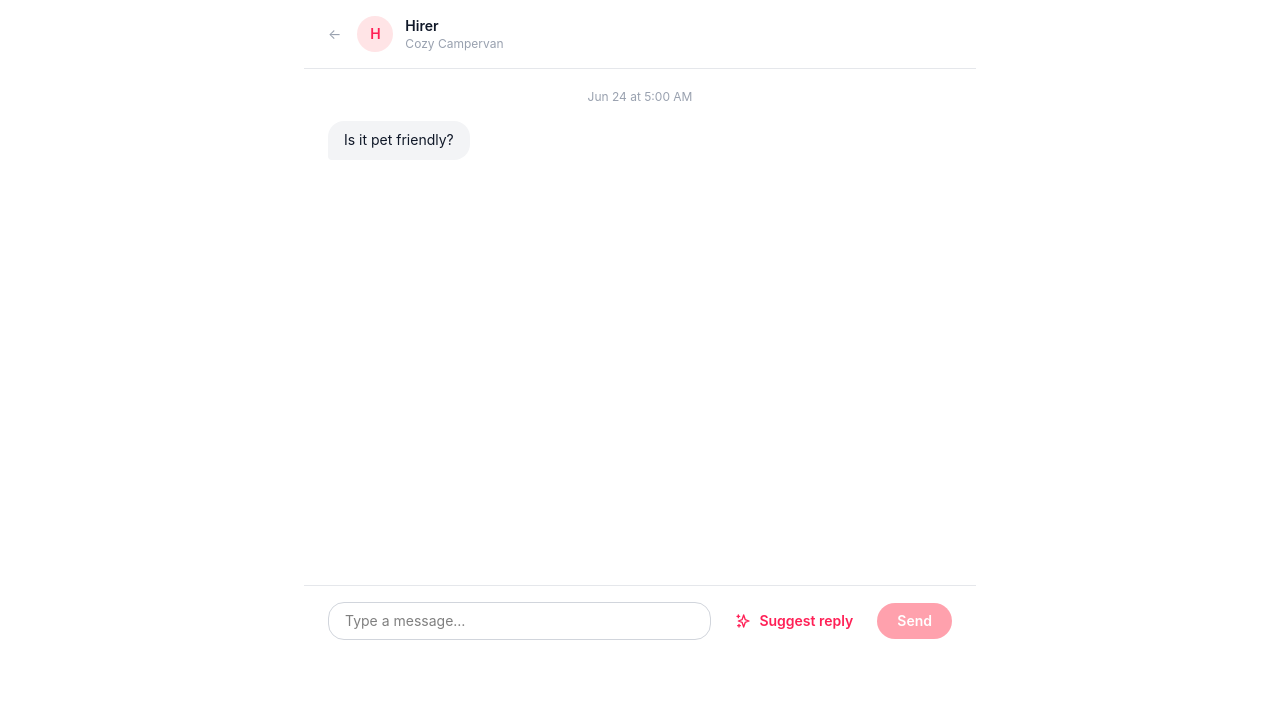
Test: ChatPage — Suggest reply (owner) › overwrites the draft with the suggestion when the owner confirms
In the text box with placeholder "Type a message…": (520, 621) [328,602,711,640], type "my own words"
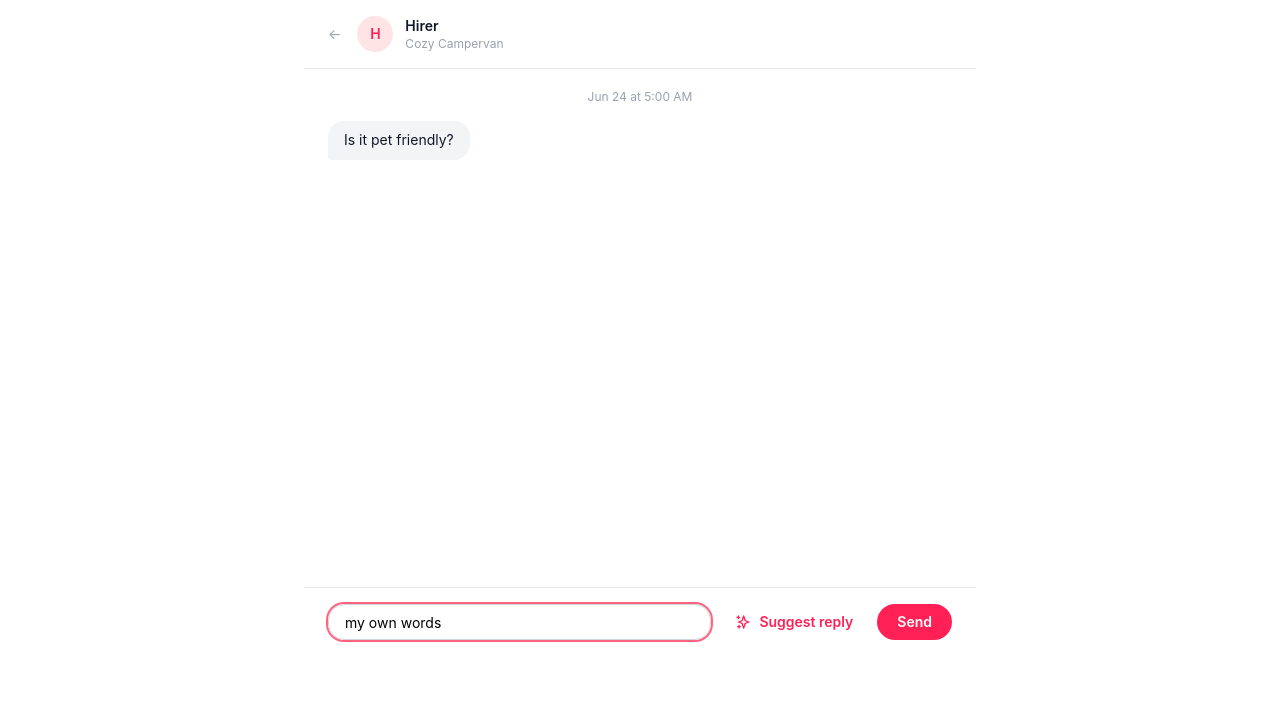
Click the button "Suggest reply": (794, 622) [723,604,865,640]
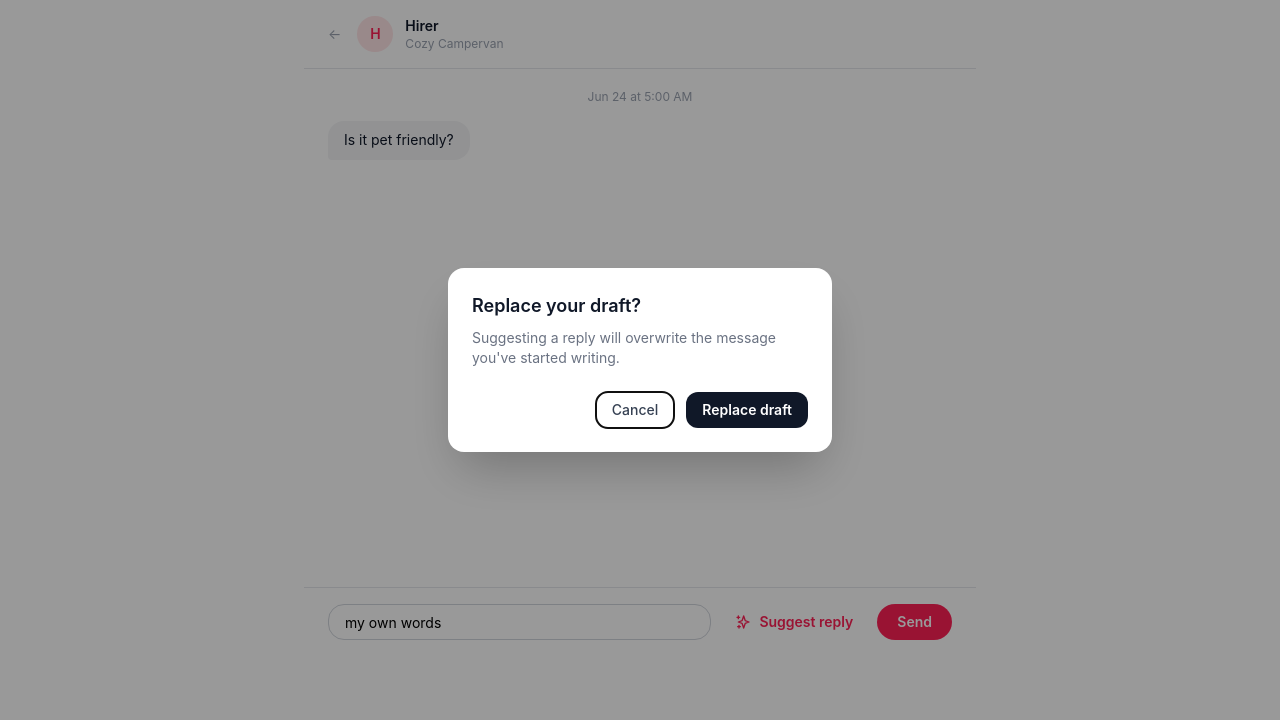
Click the button "Replace draft": (747, 410) [686,392,808,428]
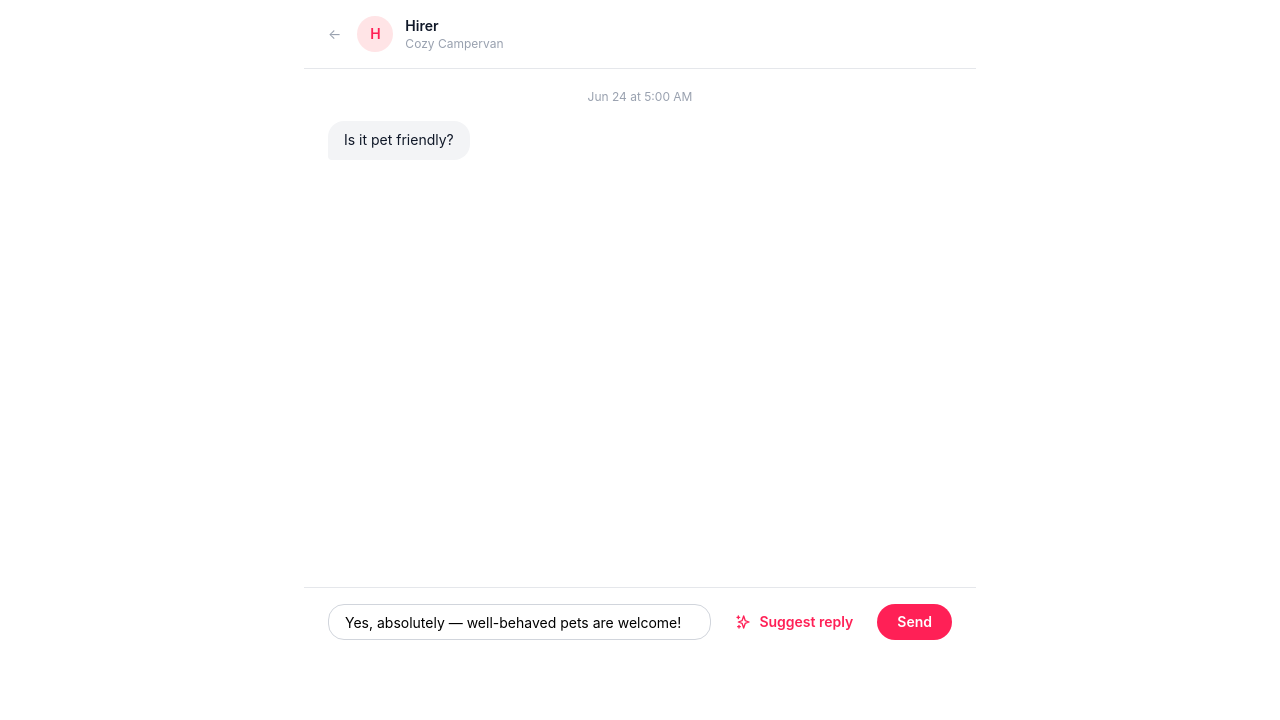
Result: the text box with placeholder "Type a message…" does not hold "my own words" at [328,604,711,640]
Result: the dialog is gone
